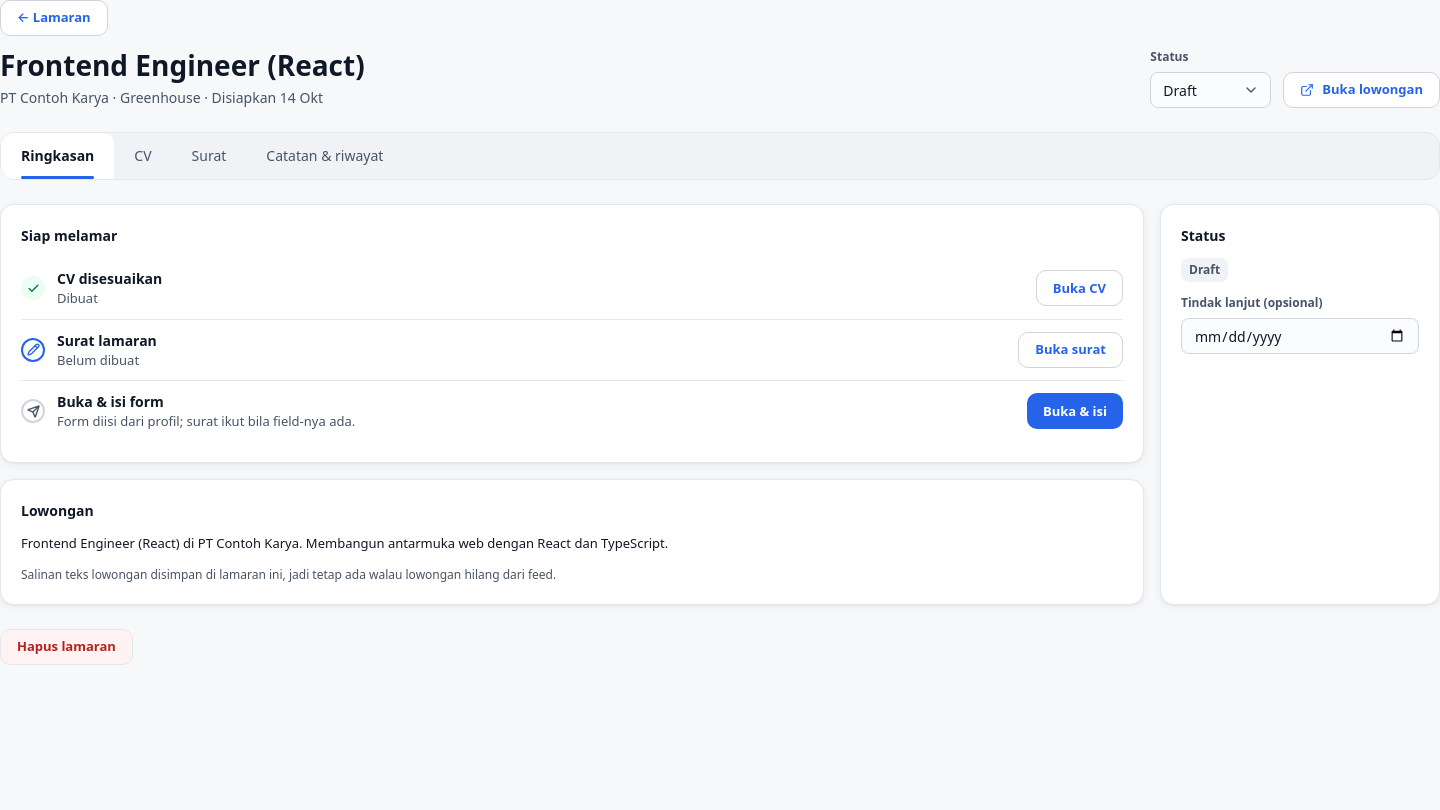
ApplicationDetailPage · hapus lamaran › asks first, and says the CV and the letter go too
Click the button "Hapus lamaran". click: (66, 647)
box: [0,629,133,665]
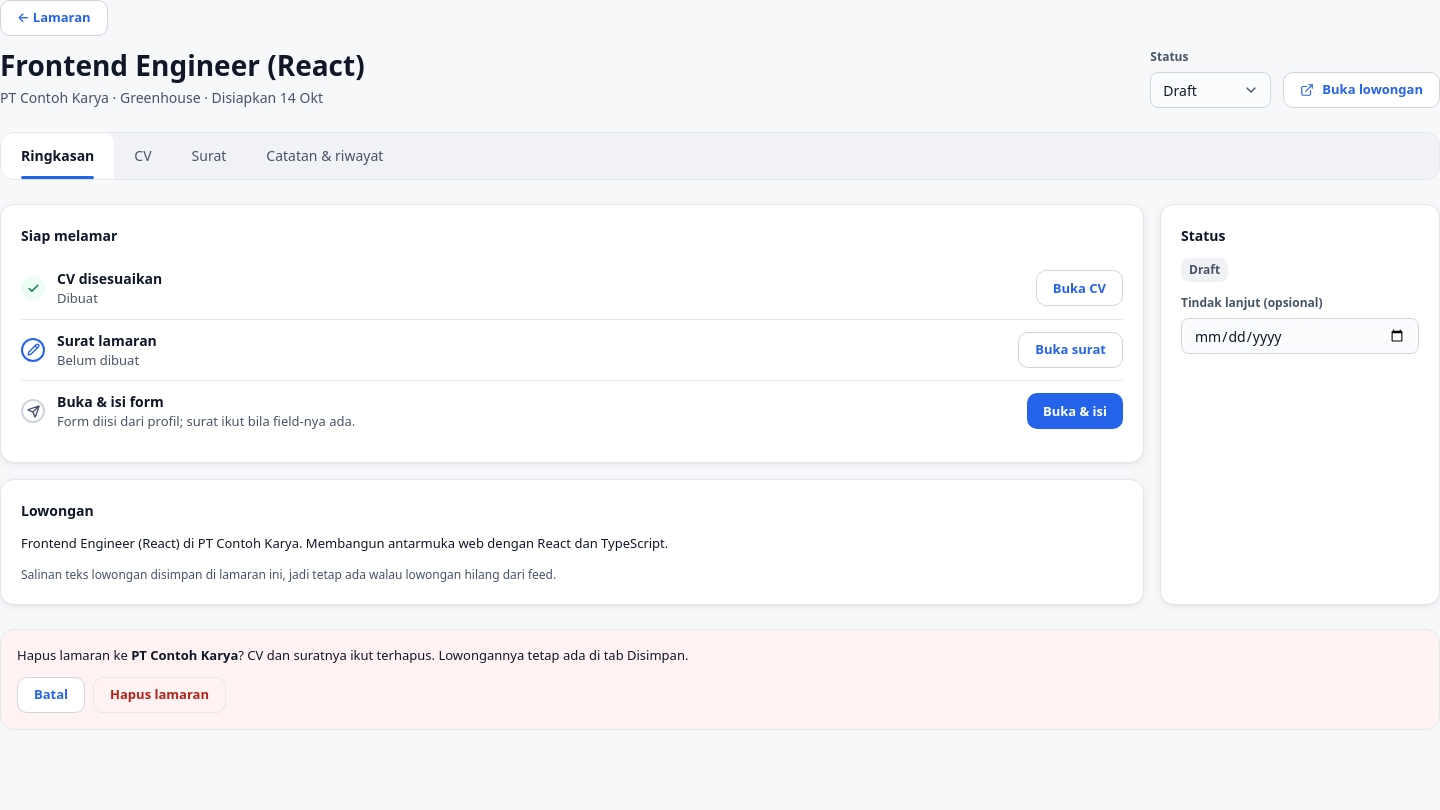
Check: the text "CV dan suratnya ikut terhapus" is shown, box [238,646,688,664]
Click the button "Batal". click: (51, 695)
box: [17,677,85,713]
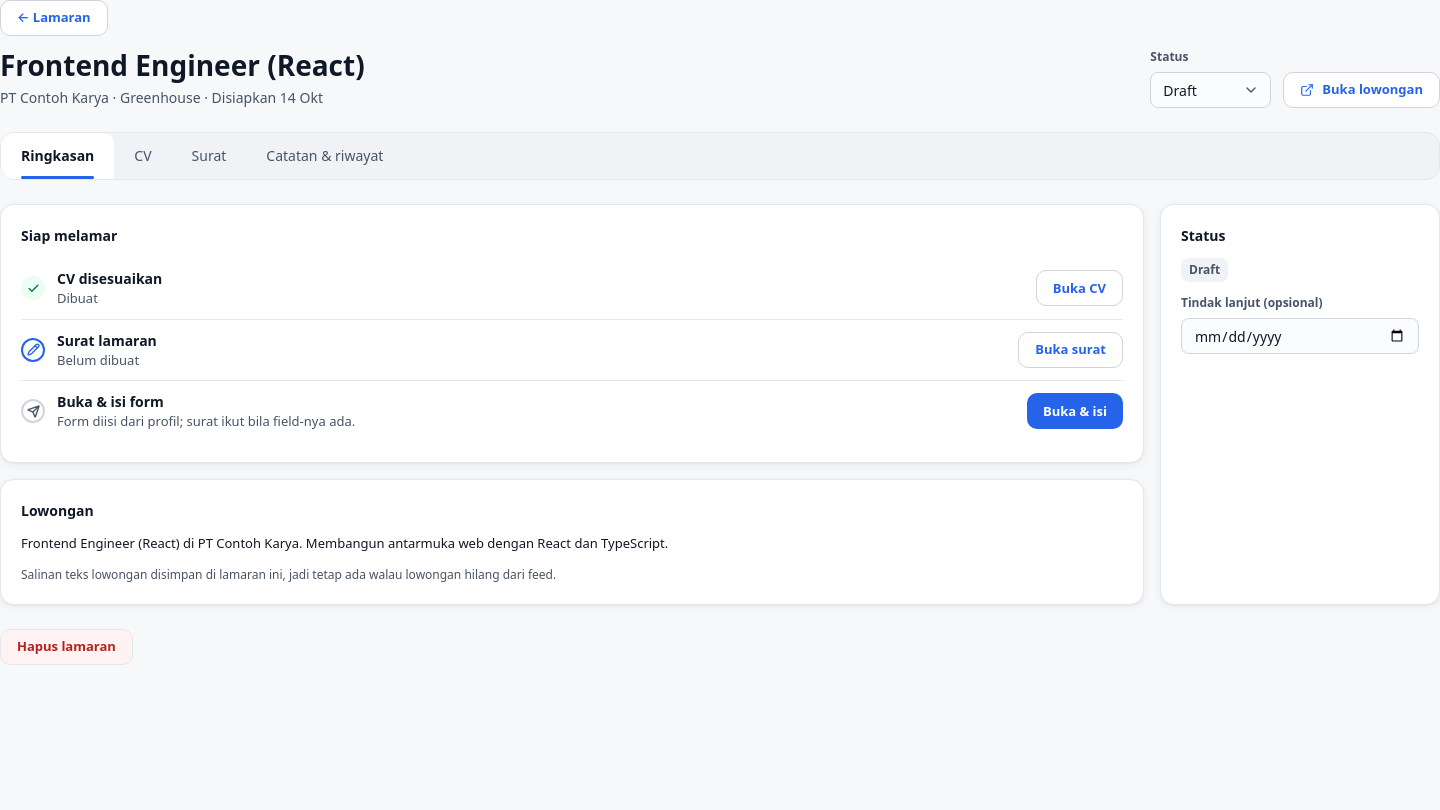
Check: the text "CV dan suratnya ikut terhapus" is gone
